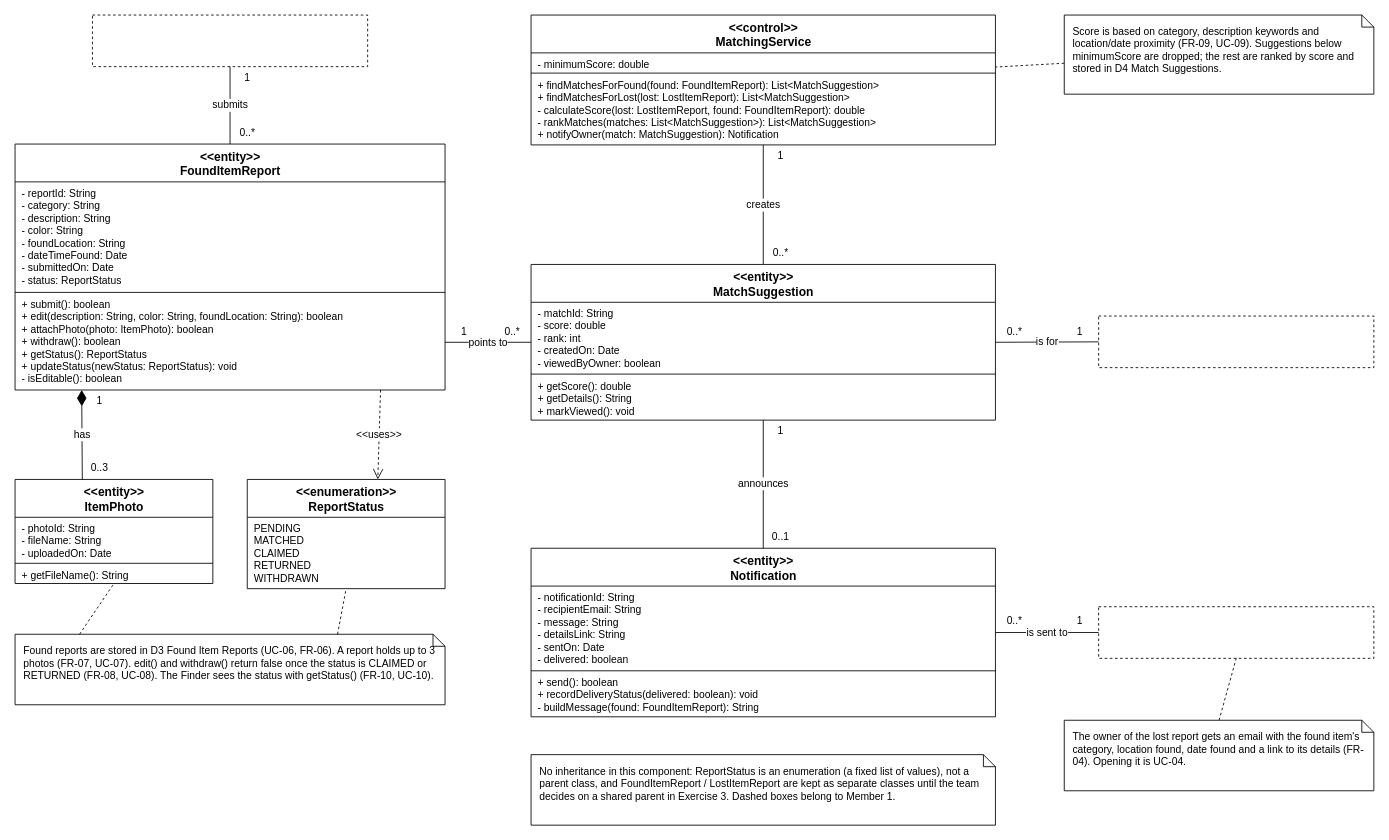
The diagram is 1389 pixels wide and 840 high, and some of its shapes have lost their labels. Here are the shapes that lost their labels. From the top down, the centre of each, then its label:
At (230,40): "Finder (Member 1)".
At (1236,341): "LostItemReport (Member 1)".
At (1236,632): "ItemOwner (Member 1)".
